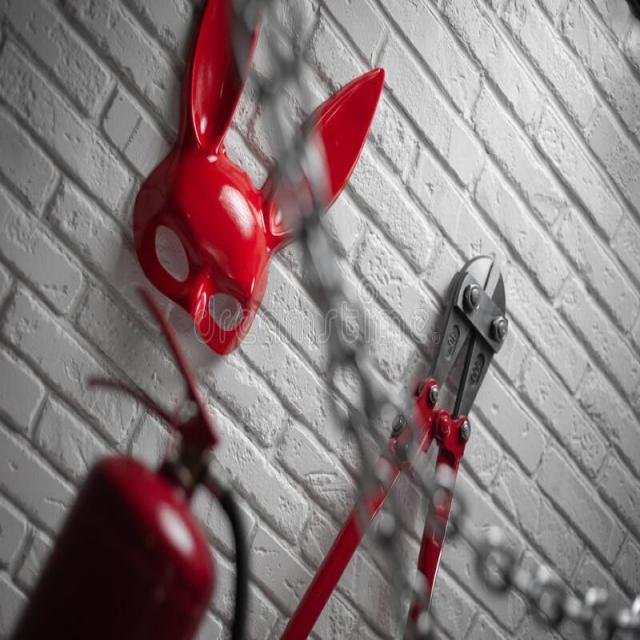fire_extinguisher: (0, 281, 257, 639)
